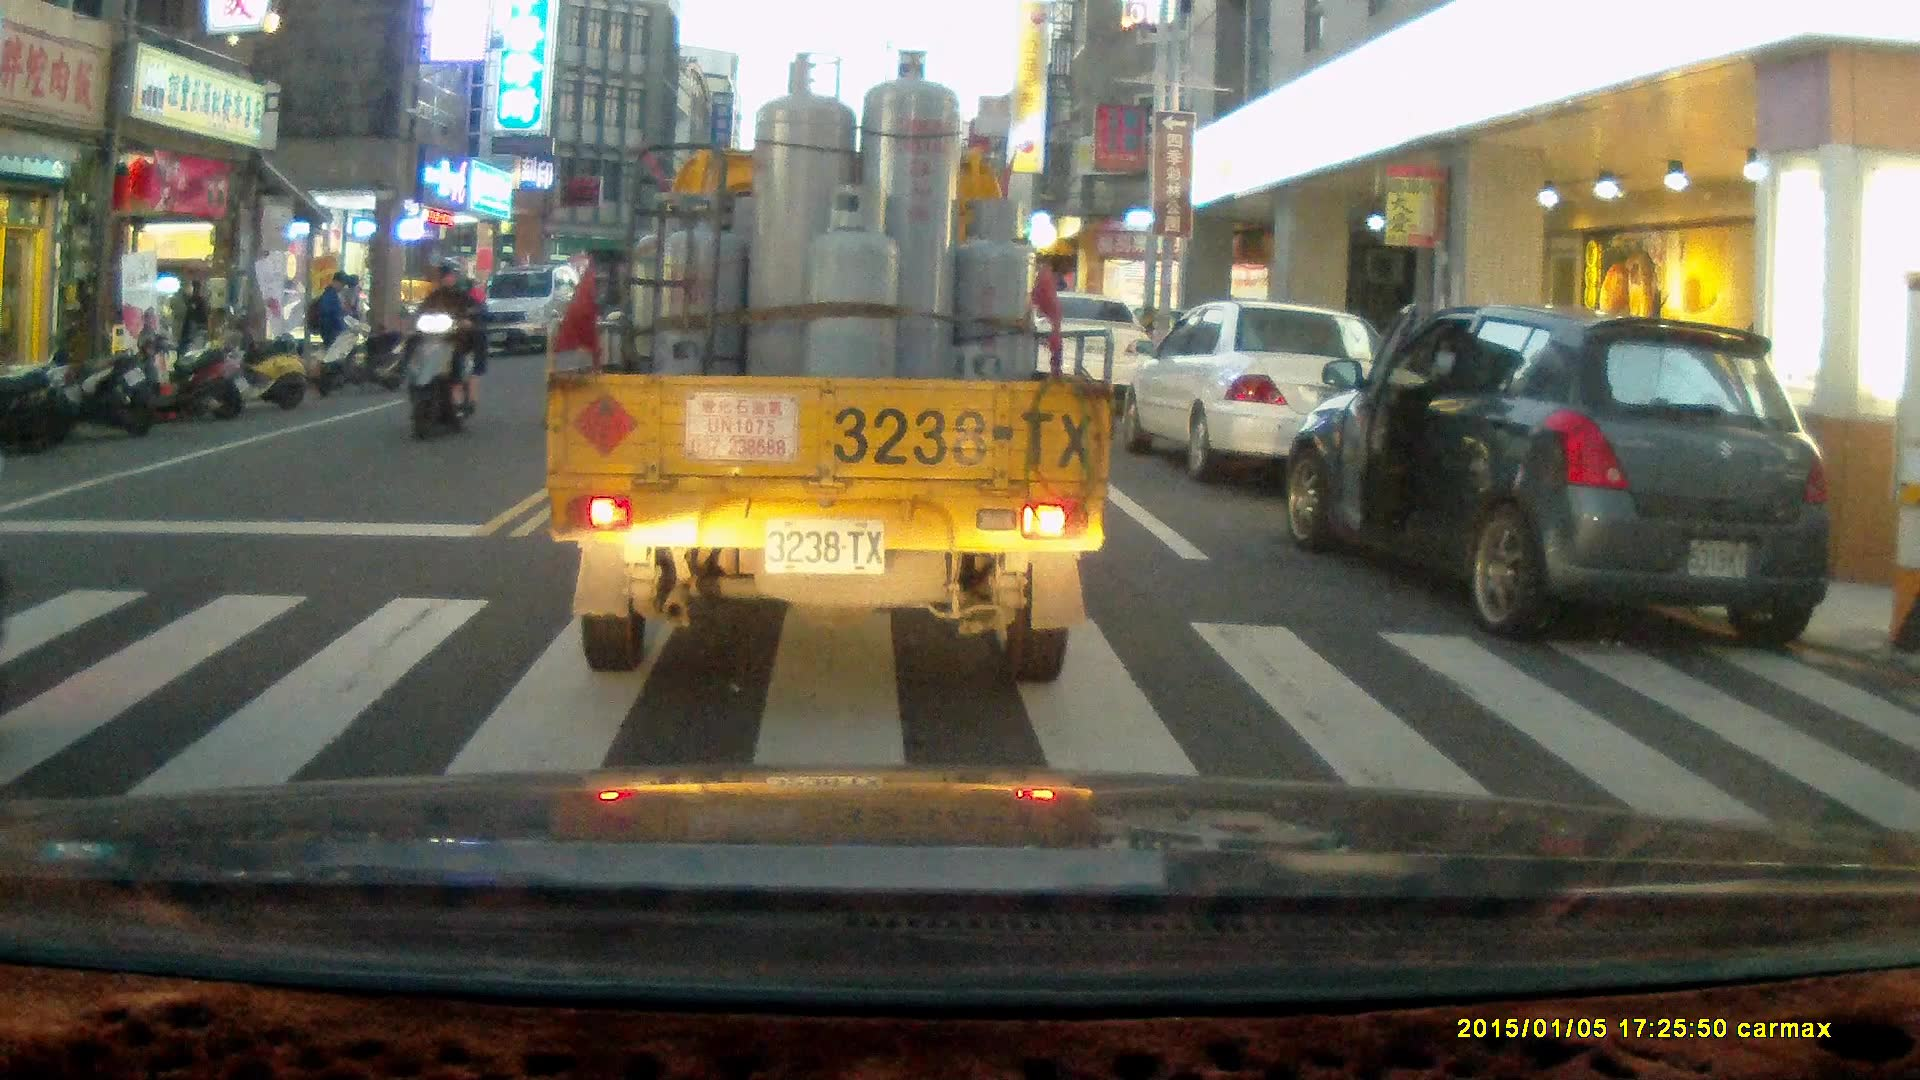pedestrian: (314, 271, 351, 387), (163, 279, 199, 389)
rider: (404, 257, 488, 440)
vehicle: (541, 61, 1102, 682), (1285, 309, 1839, 657), (1120, 302, 1408, 484), (1026, 295, 1160, 413), (460, 269, 587, 364)
